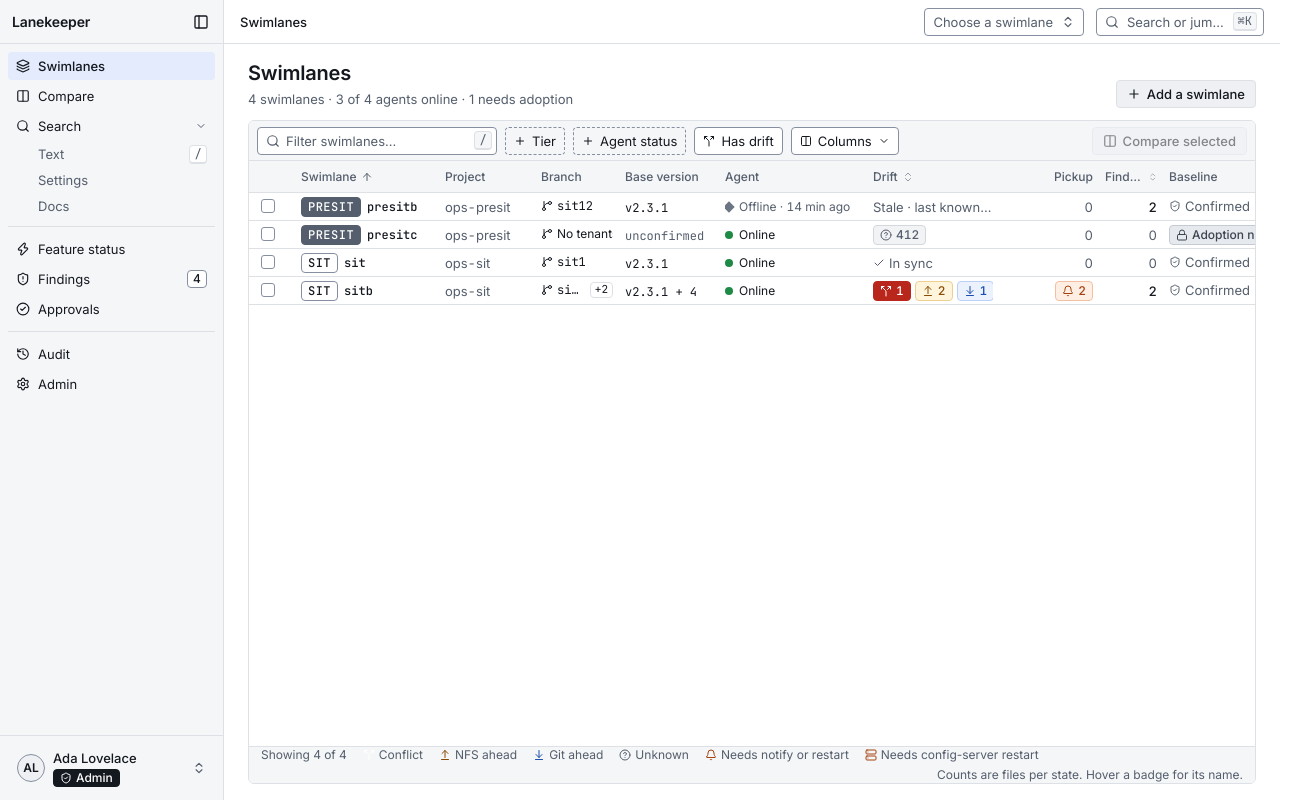
Test: the states of the States index › says no swimlane matches when the filters leave none, and clearing them brings the list back
Expected: the link "sitb" is shown, [344, 282, 373, 298]
Type "zzz" into the search field labelled "Filter swimlanes" at (377, 140), box [286, 128, 468, 154]
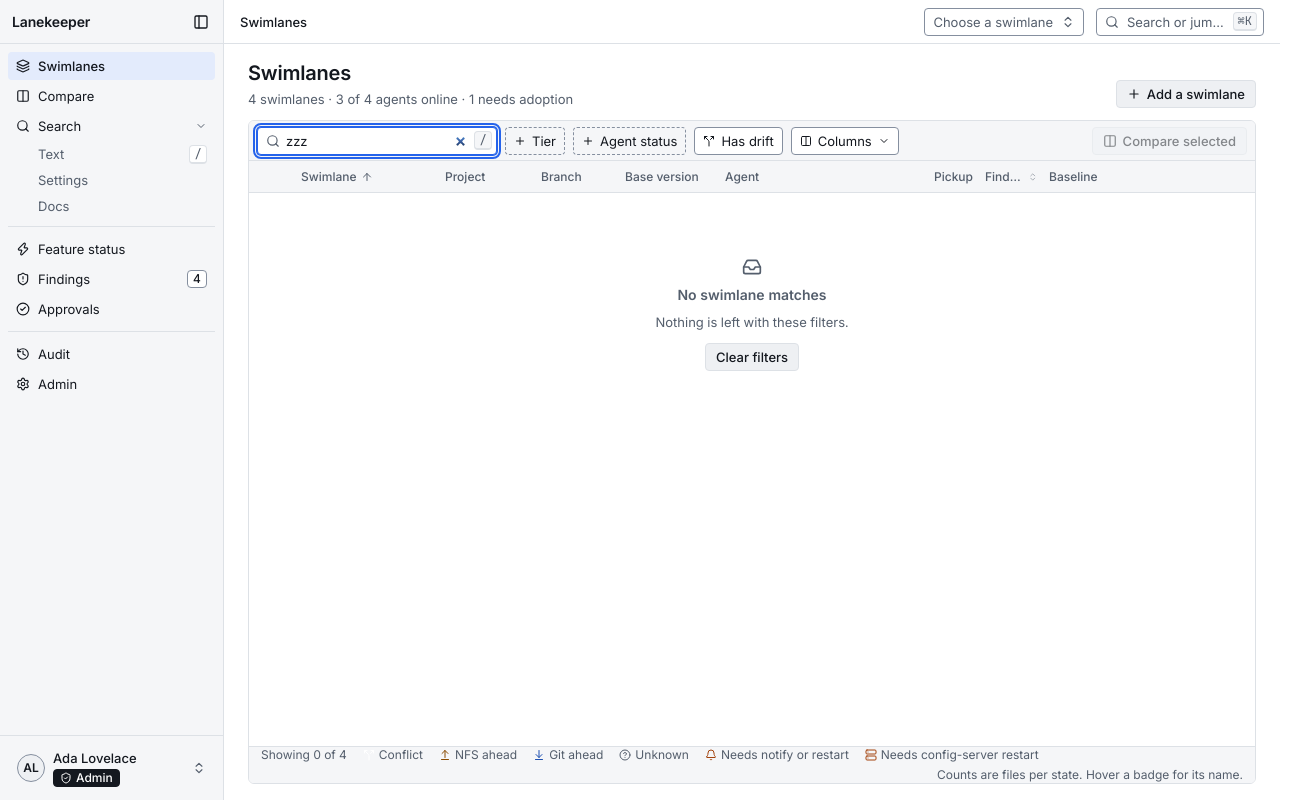
Result: the text "No swimlane matches" is shown at [678, 285, 827, 305]
Click the button "Clear filters" at (752, 357), box [705, 343, 799, 371]
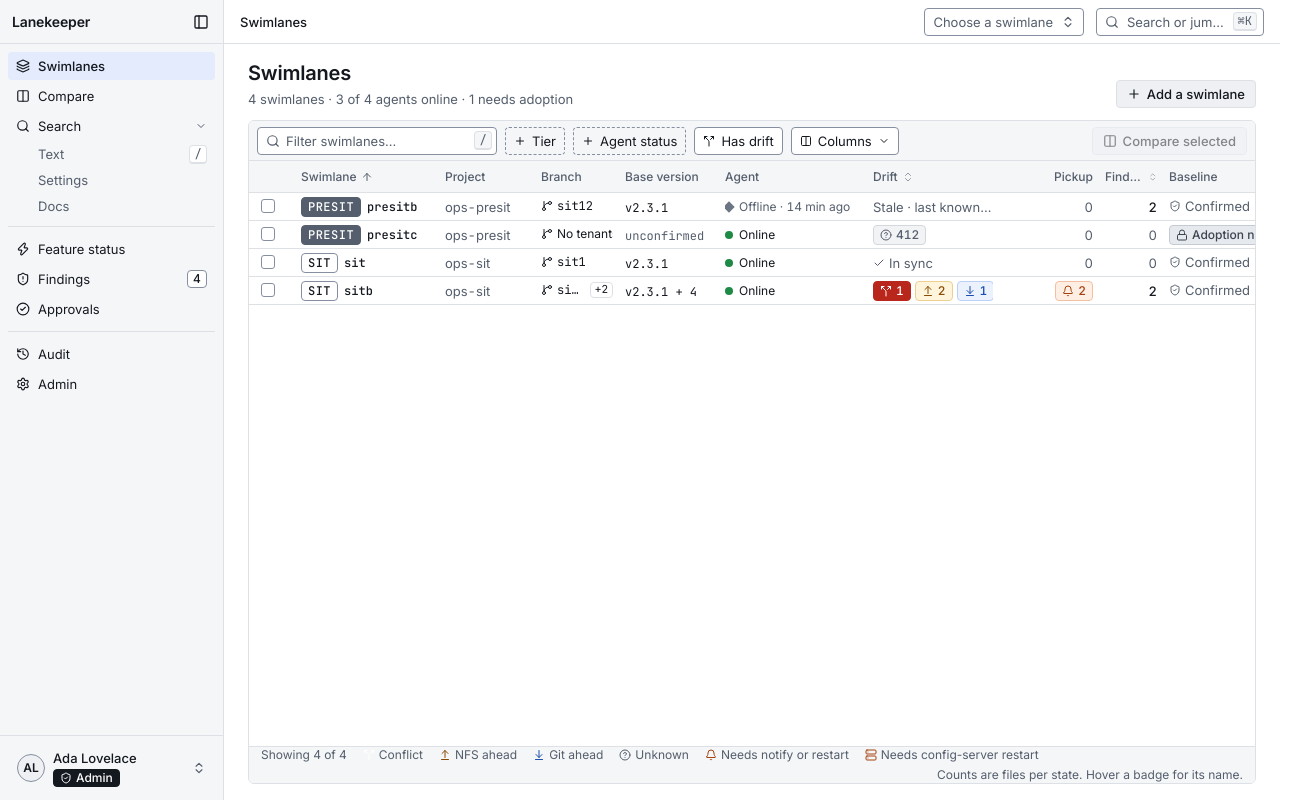
Result: the link "sitb" is shown at [344, 282, 373, 298]
